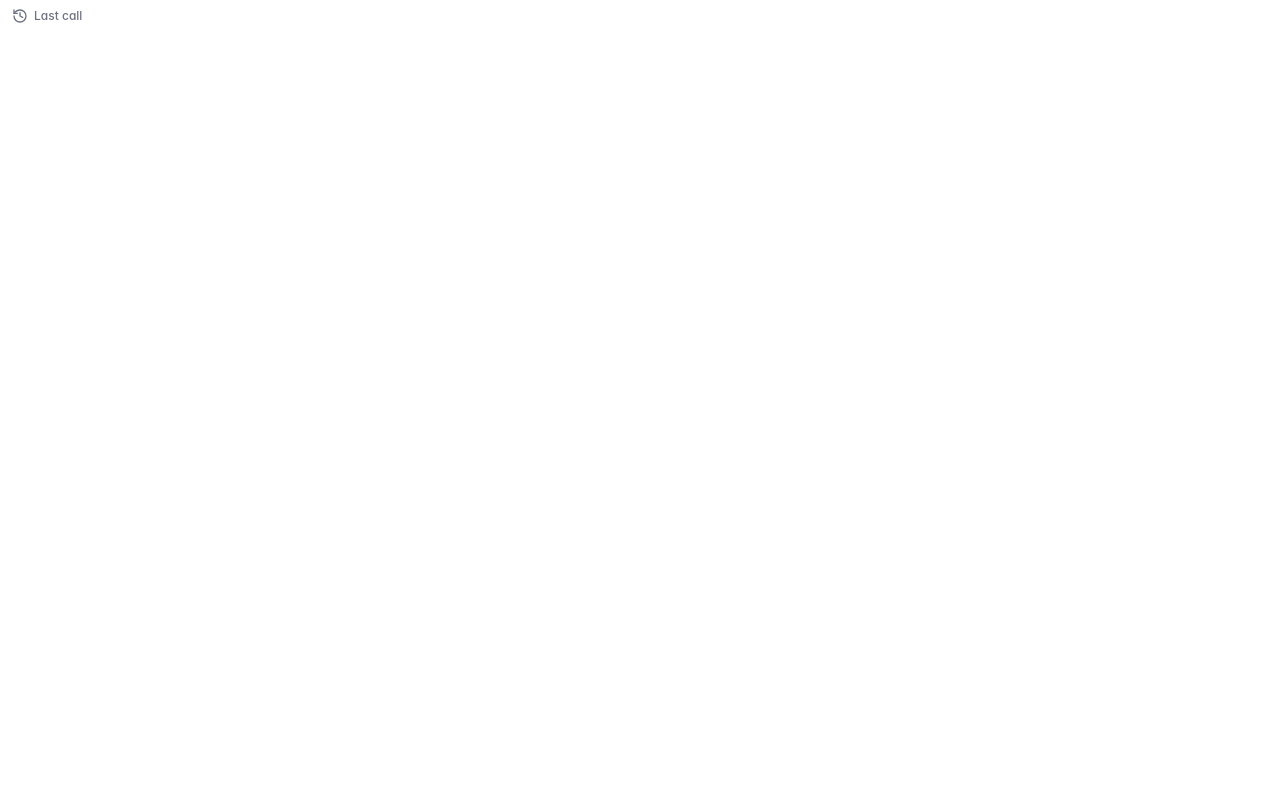
Scenario: CockpitLastCallButton › shows empty state when there's no completed call
The image size is (1280, 800).
Step 1. Click the button with test id "cockpit-last-call-btn" → {"x": 47, "y": 16}, box [0,0,94,32]
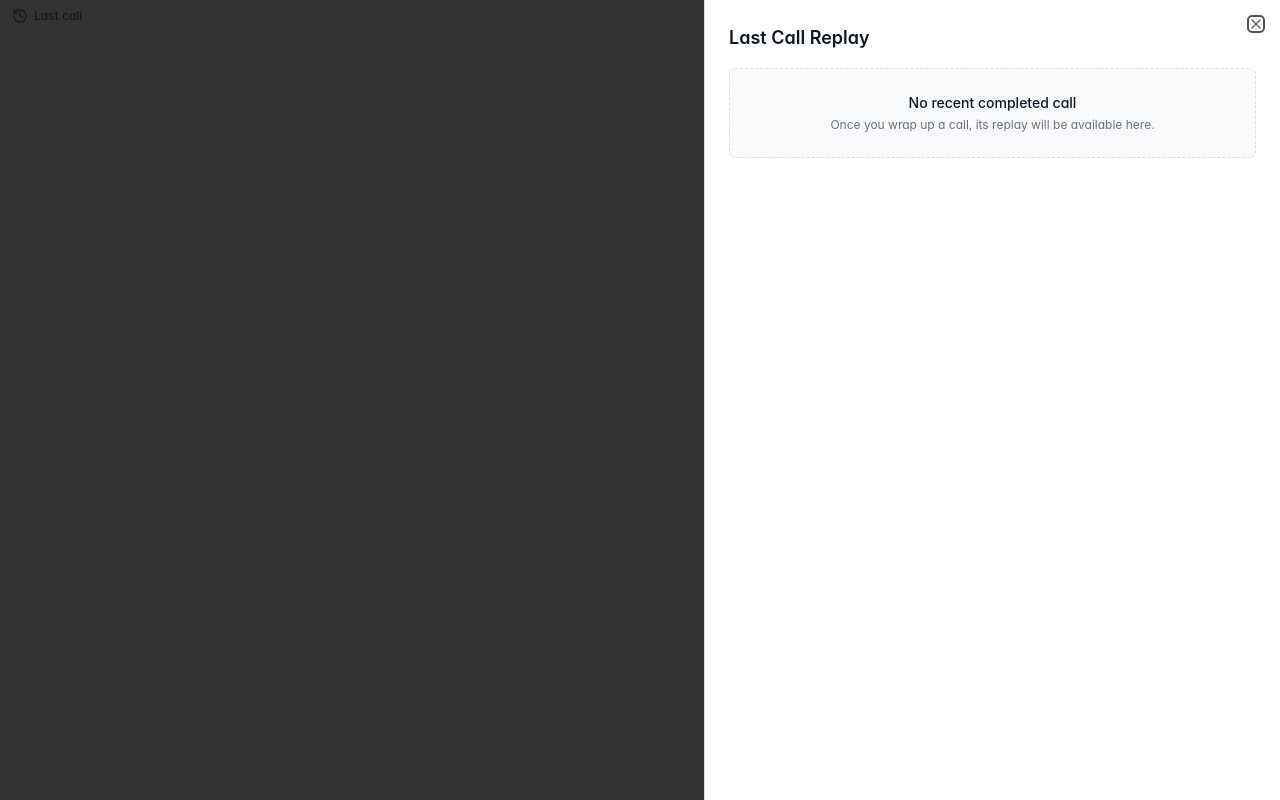
Now the element with test id "cockpit-last-call-empty" is shown, box [729,68,1256,158]
Now the text "No recent completed call" is shown, box [909,94,1076,111]
